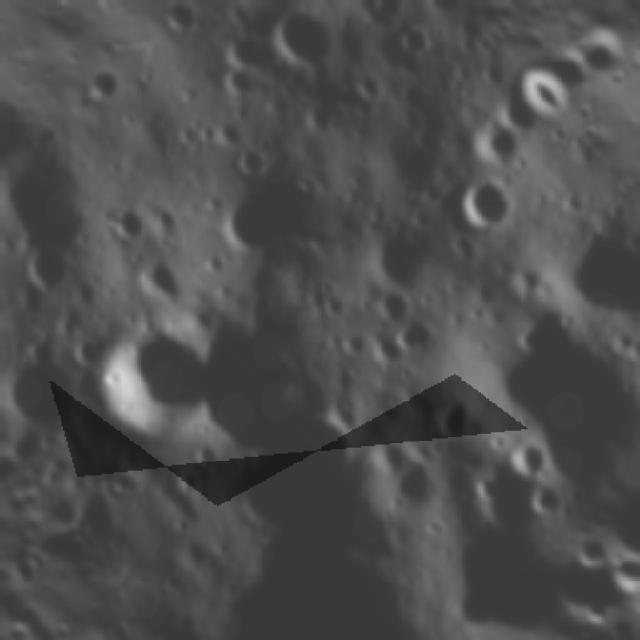crater: (57, 296, 234, 472), (515, 184, 640, 362), (0, 328, 103, 457), (348, 422, 462, 536), (434, 155, 535, 257), (199, 174, 298, 274), (356, 209, 452, 306), (258, 0, 360, 86), (486, 63, 576, 155), (381, 301, 453, 373), (460, 113, 531, 184), (128, 248, 197, 318), (13, 236, 82, 304), (215, 0, 336, 38), (423, 387, 489, 453), (498, 426, 560, 491), (518, 470, 582, 532), (210, 51, 270, 112), (387, 12, 445, 70), (343, 58, 397, 114), (99, 206, 152, 260), (163, 0, 219, 51), (87, 71, 138, 120), (228, 137, 277, 186), (142, 199, 190, 246), (355, 0, 417, 34)
